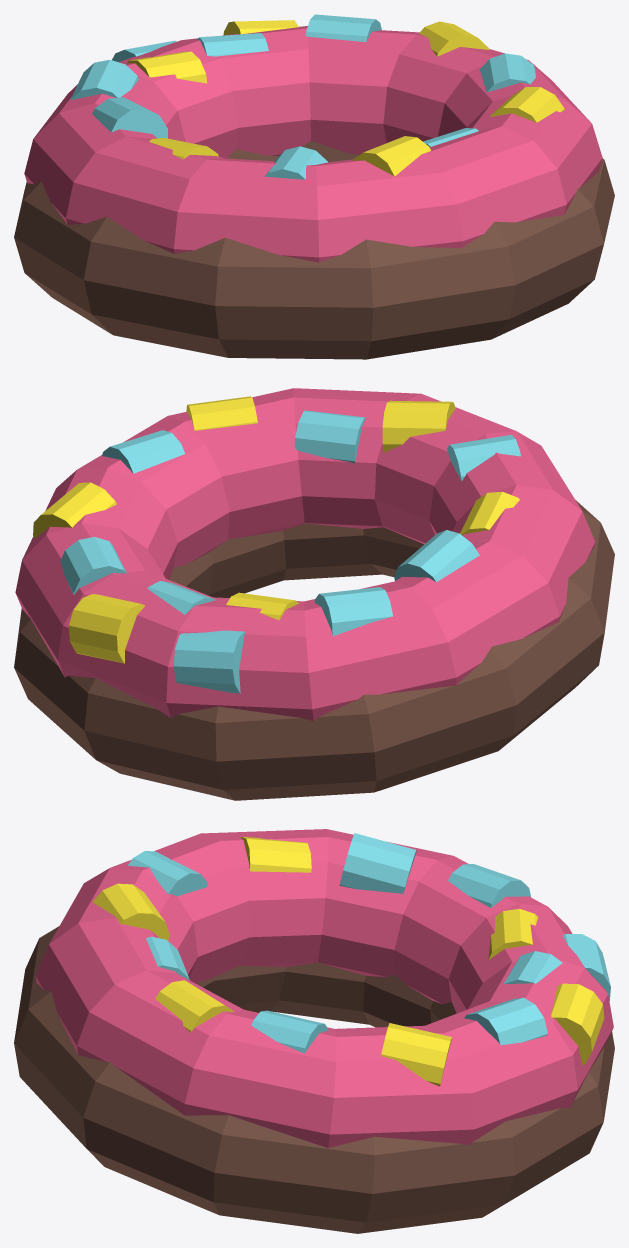
Rendered from other donut.fbx.
3 views of the same model, one above another, from view 1: azimuth 30°, elevation 25°; view 2: azimuth 150°, elevation 25°; view 3: azimuth 270°, elevation 25° (orthographic).
Visible parts, largest first — view 1: mesh_820973887, group_1779695756, mesh_1013939870, mesh_1519466804, mesh_486704623, mesh_1664526533, mesh_1697046989, mesh_664660750, mesh_812984032, mesh_178862776, mesh_1418861659, mesh_1372262774 (+3 smaller); view 2: mesh_820973887, group_1779695756, mesh_1547716948, mesh_639999476, mesh_483995375, mesh_486704623, mesh_1519466804, mesh_1013939870, mesh_1664526533, mesh_178862776, mesh_664660750, mesh_812984032 (+4 smaller); view 3: mesh_820973887, group_1779695756, mesh_1013939870, mesh_178862776, mesh_639999476, mesh_1664526533, mesh_486704623, mesh_1519466804, mesh_506209742, mesh_812984032, mesh_664660750, mesh_1372262774 (+4 smaller).
Boxes of the visible parts, box(x1,y1,x2,y2) form: mesh_820973887: box(24, 26, 602, 262); group_1779695756: box(14, 141, 614, 359); mesh_1013939870: box(92, 97, 167, 138); mesh_1519466804: box(70, 60, 138, 100); mesh_486704623: box(353, 136, 430, 176); mesh_1664526533: box(305, 14, 381, 41); mesh_1697046989: box(127, 51, 207, 83); mesh_664660750: box(480, 53, 535, 92); mesh_812984032: box(490, 87, 564, 122); mesh_178862776: box(419, 21, 489, 56); mesh_1418861659: box(196, 33, 268, 56); mesh_1372262774: box(265, 146, 327, 179); mesh_820973887: box(15, 388, 595, 720); group_1779695756: box(14, 500, 614, 800); mesh_1547716948: box(173, 630, 245, 693); mesh_639999476: box(69, 594, 145, 663); mesh_483995375: box(294, 410, 365, 463); mesh_486704623: box(382, 400, 455, 452); mesh_1519466804: box(314, 587, 393, 636); mesh_1013939870: box(394, 530, 479, 582); mesh_1664526533: box(60, 536, 126, 594); mesh_178862776: box(33, 482, 116, 538); mesh_664660750: box(102, 430, 185, 473); mesh_812984032: box(186, 396, 257, 430); mesh_820973887: box(35, 829, 613, 1147); group_1779695756: box(14, 926, 614, 1233); mesh_1013939870: box(339, 833, 416, 893); mesh_178862776: box(381, 1023, 451, 1086); mesh_639999476: box(551, 983, 604, 1065); mesh_1664526533: box(464, 997, 547, 1045); mesh_486704623: box(92, 883, 169, 940); mesh_1519466804: box(448, 864, 531, 907); mesh_506209742: box(241, 836, 311, 872); mesh_812984032: box(155, 980, 234, 1032); mesh_664660750: box(251, 1010, 328, 1053); mesh_1372262774: box(127, 851, 207, 896).
Bounding box in the file's own units: 18.77 × 8.22 × 18.7.
